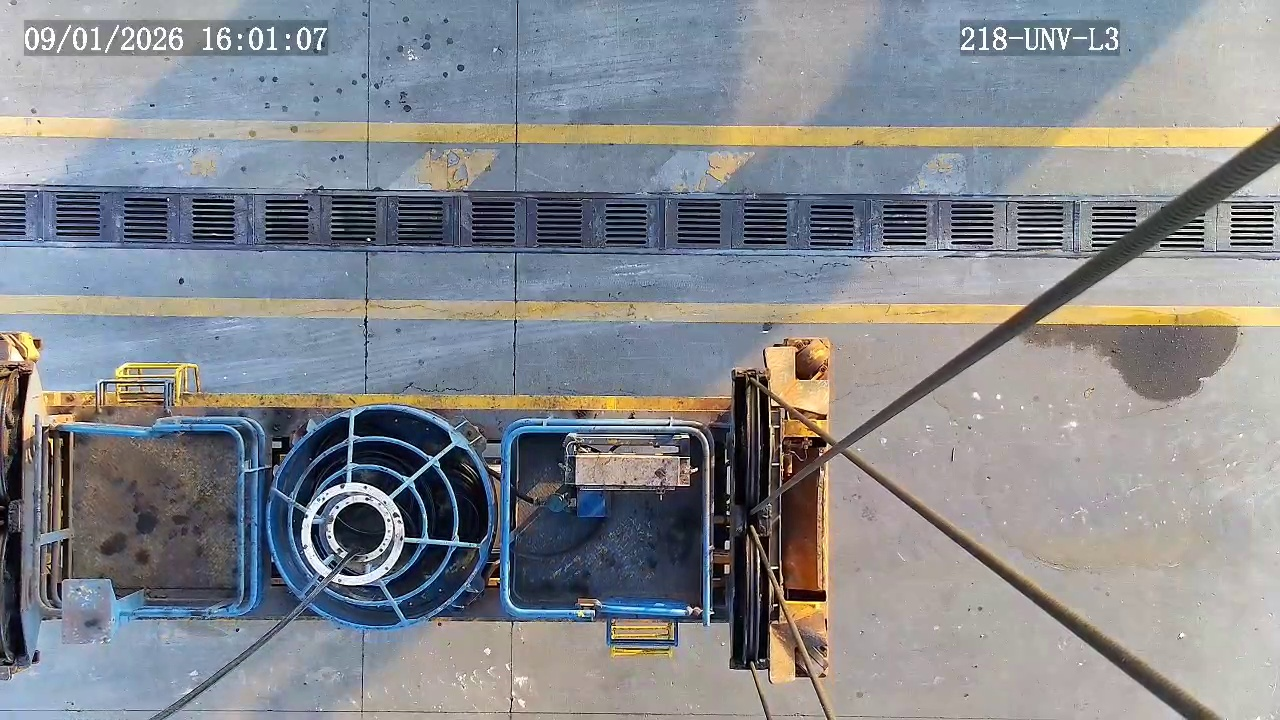right: (265, 404, 493, 629)
